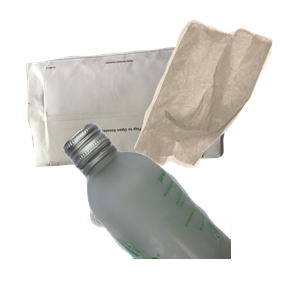glass: (60, 120, 300, 300)
paper: (24, 43, 242, 202)
plastic: (88, 182, 242, 300)
trash: (132, 17, 300, 177)
